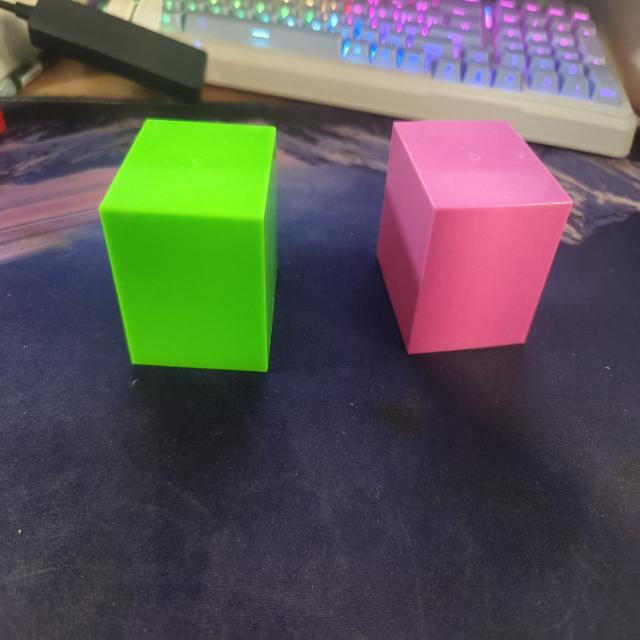green: (96, 111, 298, 378)
pink: (372, 115, 580, 382)
